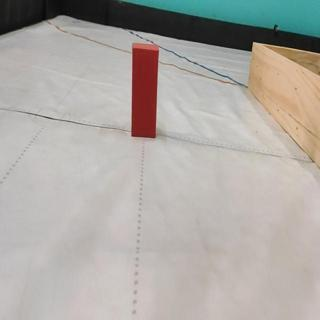redbox: (130, 39, 159, 139)
